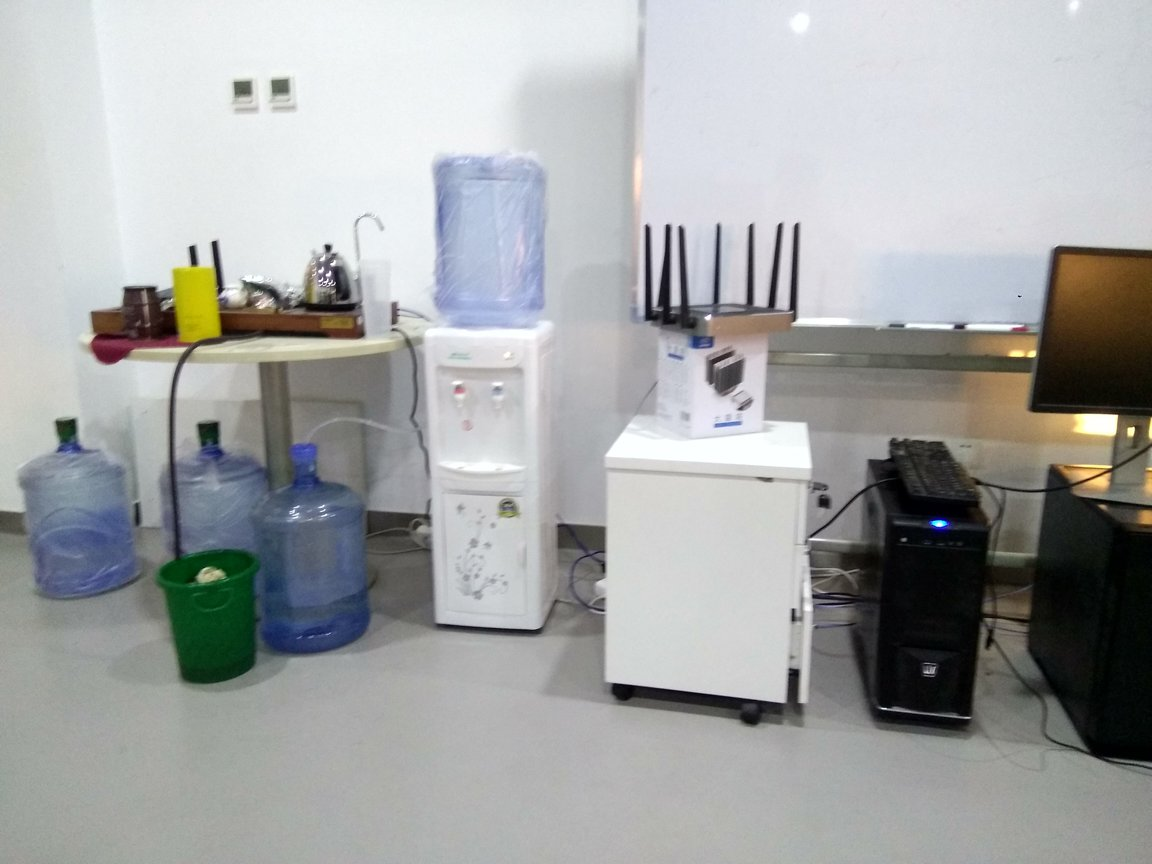computer: (859, 445, 992, 759), (1047, 465, 1152, 774)
drawer chest: (599, 400, 806, 731)
monitor: (1023, 225, 1152, 514)
scuttlebutt: (419, 133, 566, 329), (245, 437, 373, 659), (157, 417, 286, 612), (21, 417, 135, 602)
water dispenser: (413, 306, 555, 648)
